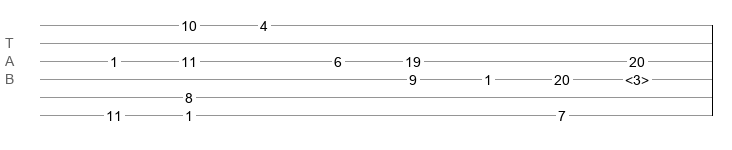1: (110, 54, 118, 64), (185, 108, 193, 118), (484, 72, 492, 82)
10: (181, 18, 197, 28)
11: (106, 108, 122, 118), (181, 54, 197, 64)
19: (405, 54, 421, 64)
20: (554, 72, 570, 82), (629, 54, 645, 64)
4: (260, 18, 268, 28)
6: (334, 54, 342, 64)
7: (558, 108, 566, 118)
8: (185, 90, 193, 100)
9: (409, 72, 417, 82)
harmonic: (625, 72, 649, 82)
